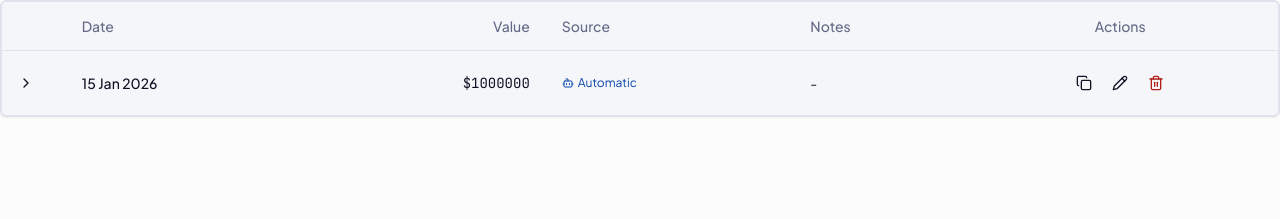
Scenario: SnapshotTable expand row › expands and shows the empty state when the snapshot has no positions
Step 1. Click the row named "expand daily snapshot" → {"x": 120, "y": 82}, box [2,50,1278,114]
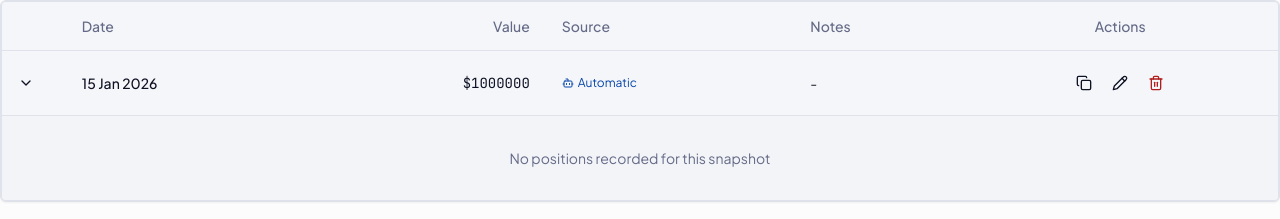
Expected: the button named "collapse daily snapshot" is expanded, [10,66,42,98]
Expected: the text "No positions recorded for this snapshot" is shown, [510,148,770,166]
